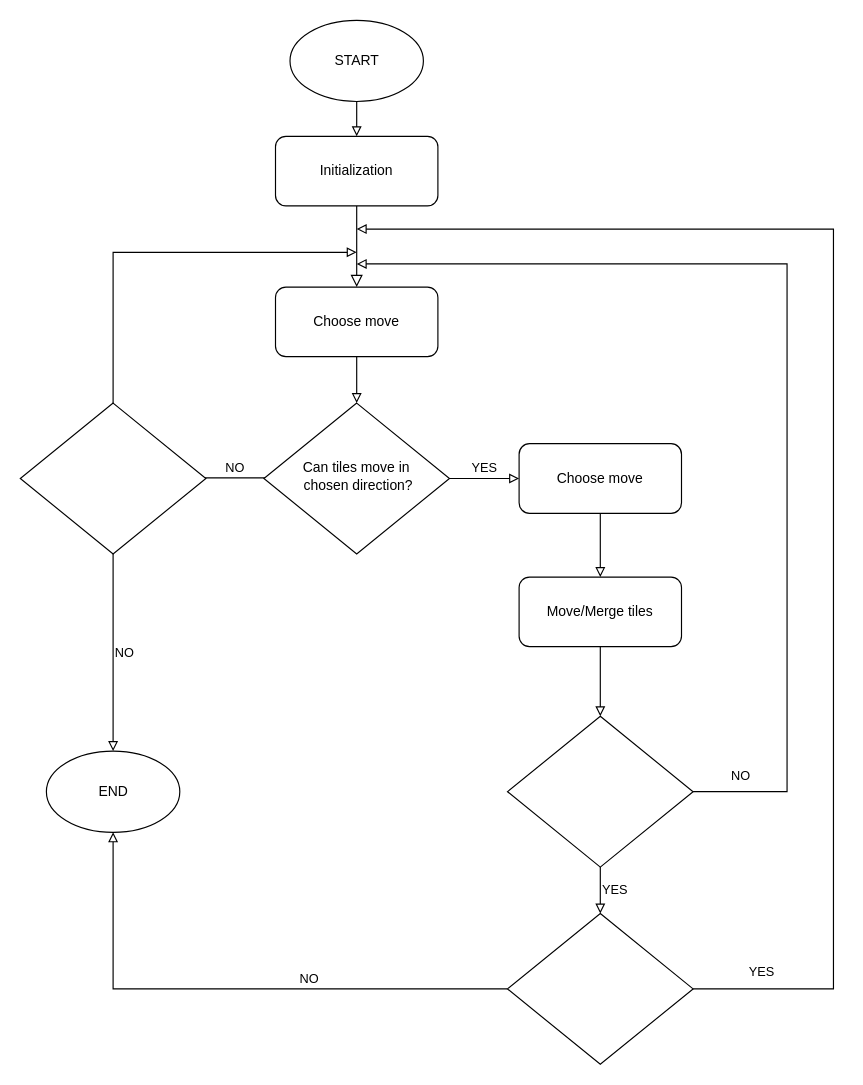
Some shapes in this 863 by 1085 pixel diagram are drawn without their labels. Each missing label, with the centre of its shape:
"Are there any possible moves left?" belongs at [112,478].
"Does any tile have 2048 value?" belongs at [599,791].
"Does user want to continue the game?" belongs at [599,988].
